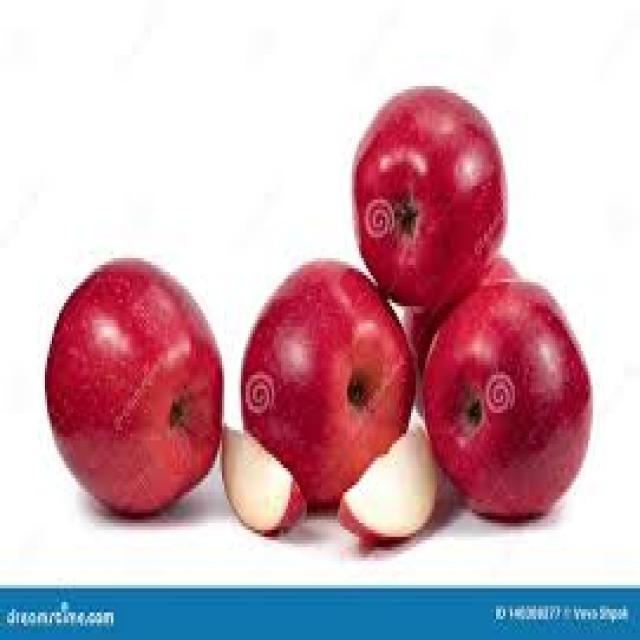non_orange: (29, 241, 232, 539), (237, 250, 416, 540), (418, 252, 598, 531), (331, 55, 512, 310)
